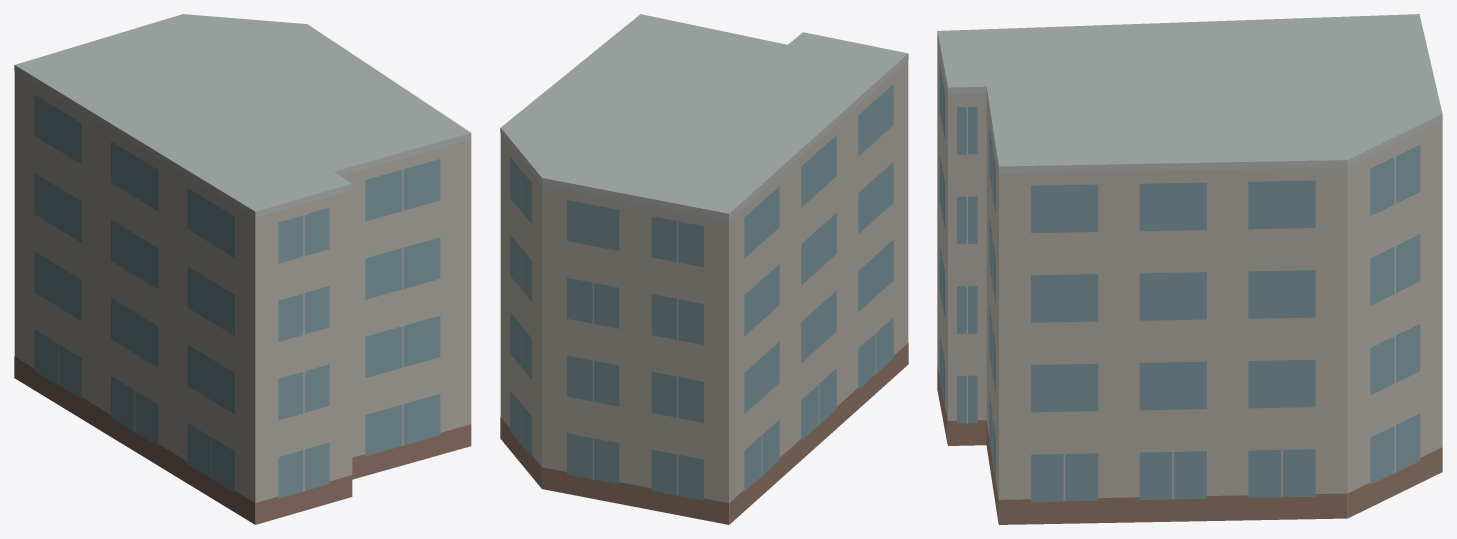
Rendered from survey-upis-32680218.glb.
3 views of the same model, side by side, from view 1: azimuth 30°, elevation 25°; view 2: azimuth 150°, elevation 25°; view 3: azimuth 270°, elevation 25° (orthographic). The views are drawn at different scales.
Visible parts, largest first — view 1: survey-upis-32680218.tmp; view 2: survey-upis-32680218.tmp; view 3: survey-upis-32680218.tmp.
Part boxes in pixels (left/top/right/bottom): survey-upis-32680218.tmp: left=14, top=14, right=471, bottom=524; survey-upis-32680218.tmp: left=500, top=14, right=908, bottom=524; survey-upis-32680218.tmp: left=937, top=14, right=1442, bottom=524.
Size of the model in its own units: 11.14 by 12.2 by 15.59.
